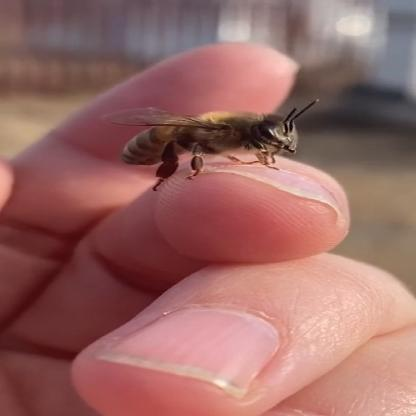bee: (77, 87, 342, 192)
